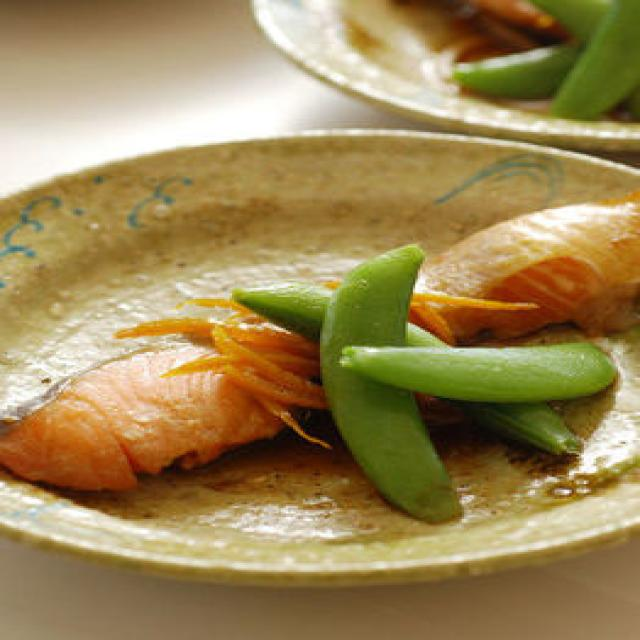熟制海鲜: (0, 191, 640, 488)
